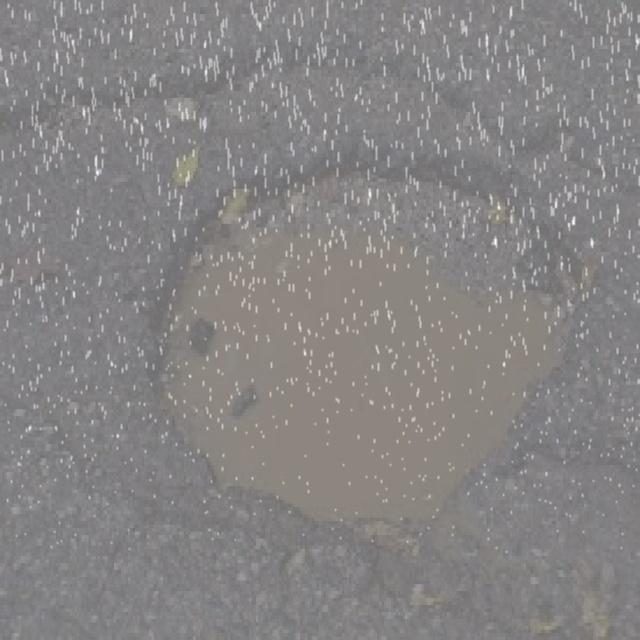Pothole: (113, 140, 620, 604)
